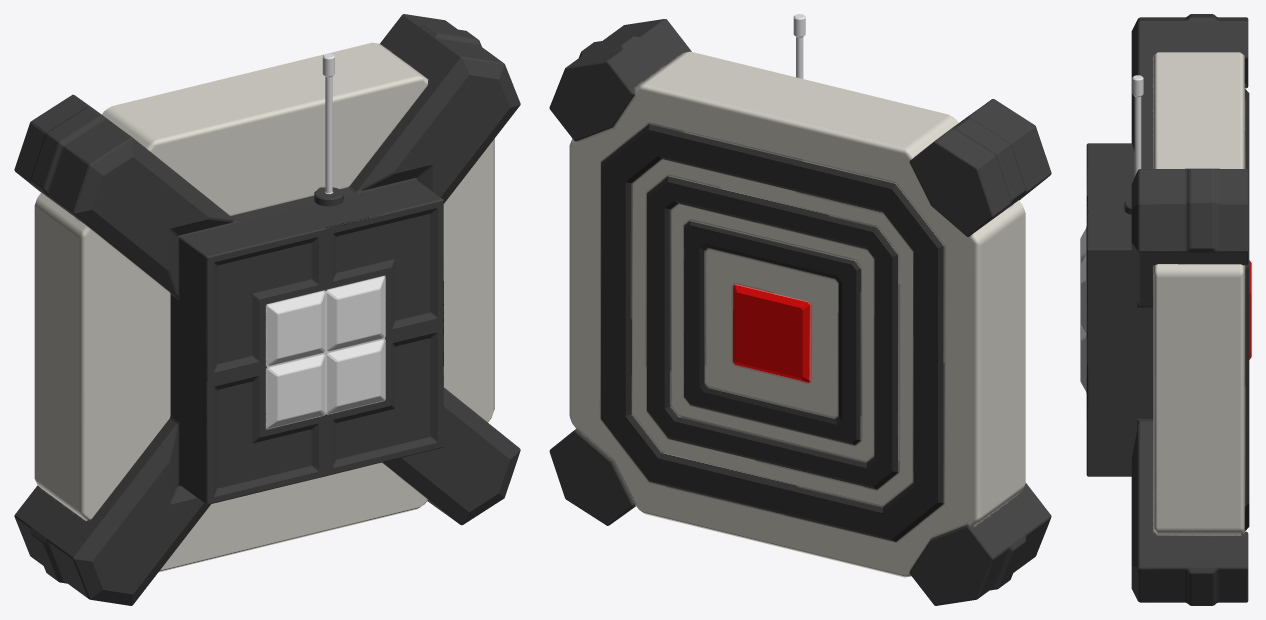
The model's file is NewTarget.fbx.
3 renders of one model, left to right at view 1: azimuth 30°, elevation 25°; view 2: azimuth 150°, elevation 25°; view 3: azimuth 270°, elevation 25°, orthographic. The views are drawn at different scales.
Visible parts, largest first — view 1: TargetShipping; view 2: TargetShipping; view 3: TargetShipping.
Boxes of the visible parts, x1,y1,x2,y2 form: TargetShipping: [14, 14, 520, 605]; TargetShipping: [549, 14, 1051, 605]; TargetShipping: [1080, 14, 1251, 605].
Bounding box in the file's own units: 2.94 × 1.05 × 3.14.
